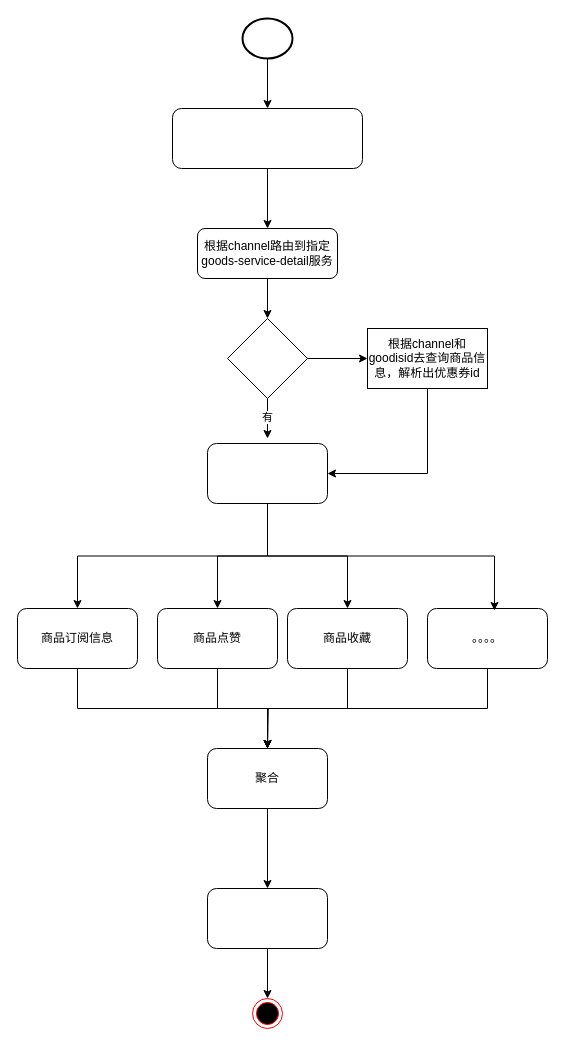
Some shapes in this 565 by 1046 pixel diagram are drawn without their labels. Here are the shapes that lost their labels. From the top down, the centre of each, then its label:
pixel 267 138: 请求商品额外信息 /api/goods/detail/extraDetailsV2
pixel 267 358: 接口是否没有优惠券
pixel 267 473: 请求商品的额外信息
pixel 267 918: 返回额外信息
